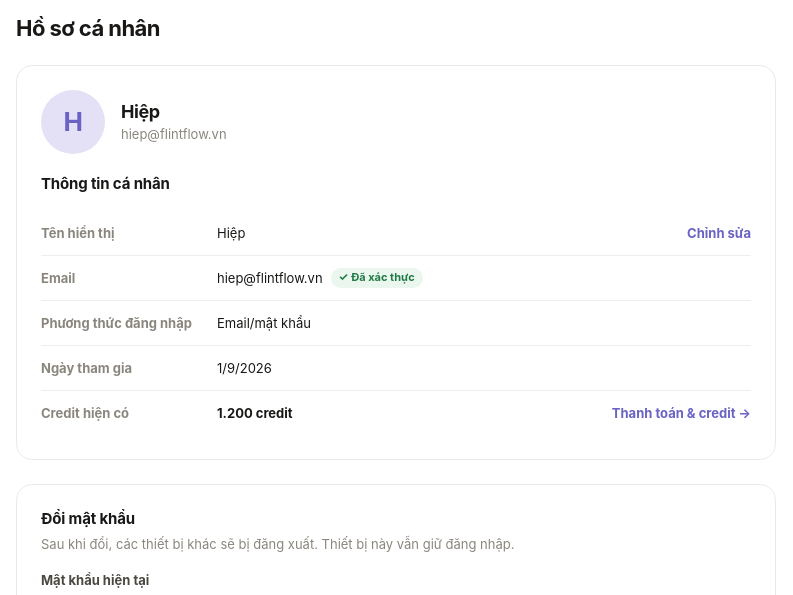
Test case: ProfilePage › sửa tên hiển thị ⇒ gọi updateMyName và hiện tên mới
Expected: the heading "Thông tin cá nhân" is shown, [41,174,170,193]
Click the button "Chỉnh sửa" at (719, 233), box [687,223,751,243]
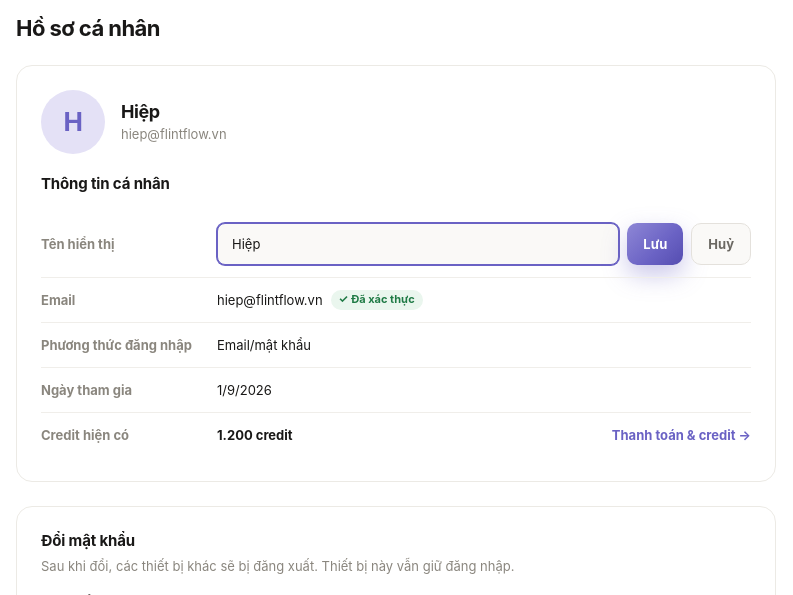
Replace the text in the field named "Tên hiển thị" with "  Tuấn Hiệp " at (418, 244), box [217,223,619,265]
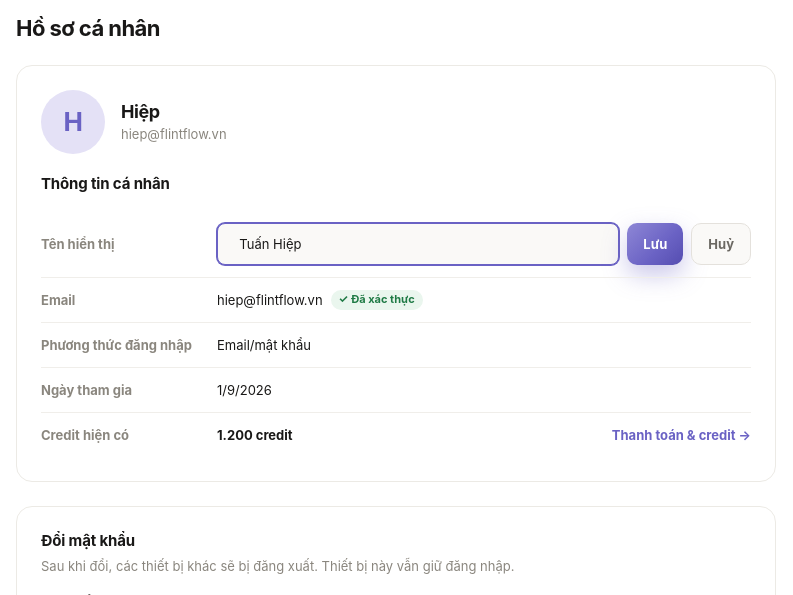
Click the button "Lưu" at (655, 244), box [627,223,683,265]
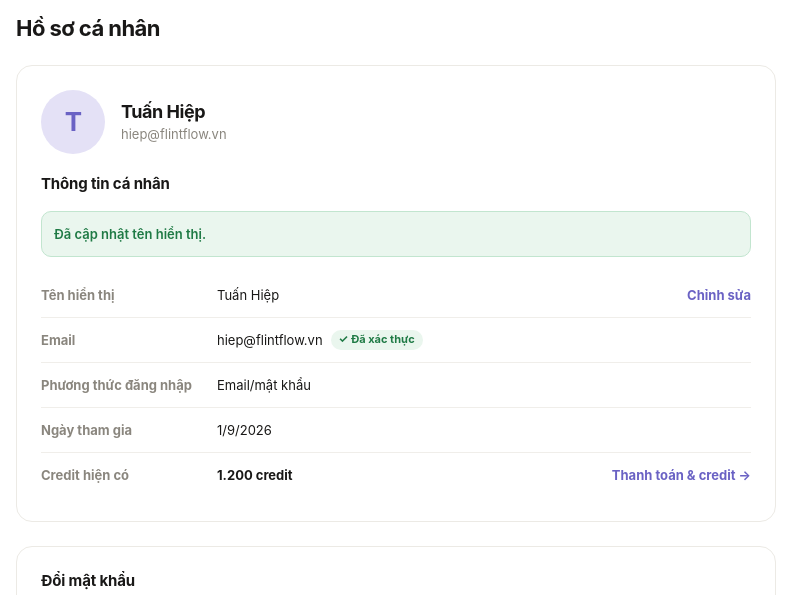
Result: the text "Đã cập nhật tên hiển thị." is shown at [41,211,751,257]
Result: the 1st text "Tuấn Hiệp" is shown at [121,101,205,122]
